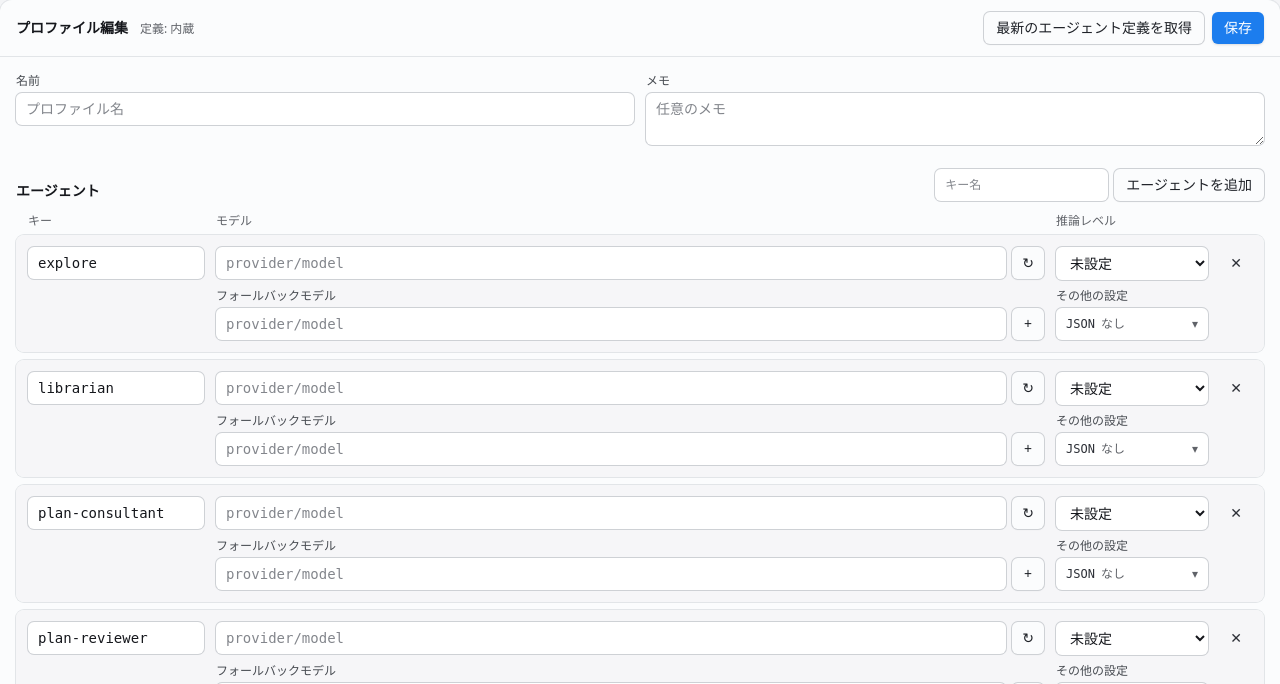
ProfileEditor › leaves the draft clean when the fetched definitions add nothing
The image size is (1280, 684).
Click the button "最新のエージェント定義を取得" at (1094, 28), box [984,12,1204,44]
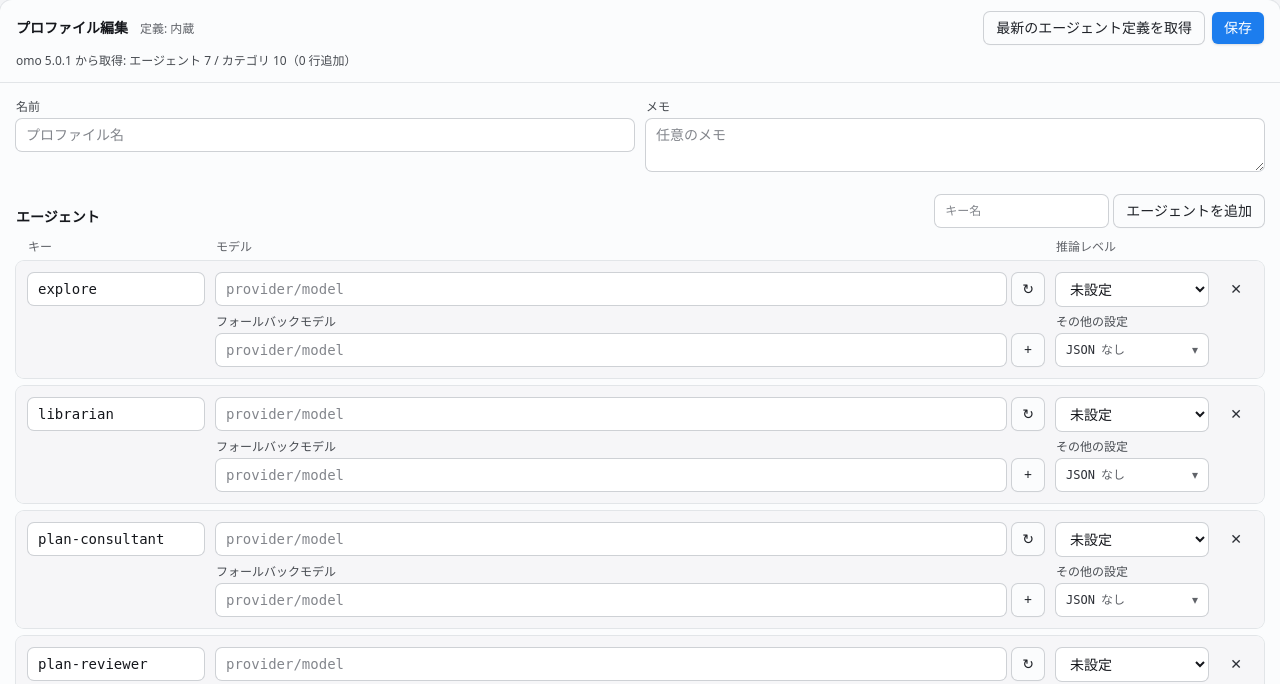
Expected: the text with test id "catalog-status" shows "（0 行追加）", [16,52,357,69]
